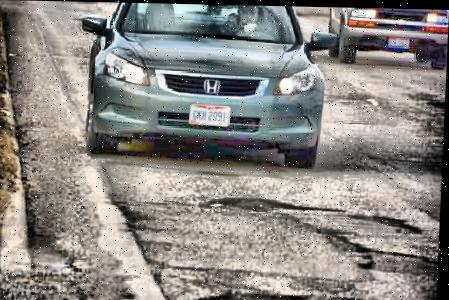pothole: (194, 289, 384, 300), (207, 194, 293, 214), (380, 209, 425, 232), (197, 165, 242, 180)
